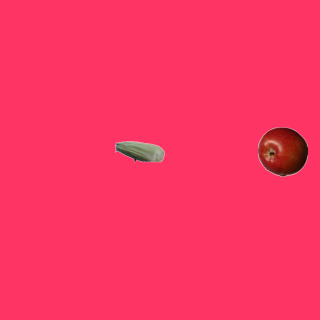Apple Braeburn: (257, 126, 307, 176)
Corn Husk: (114, 126, 164, 176)
